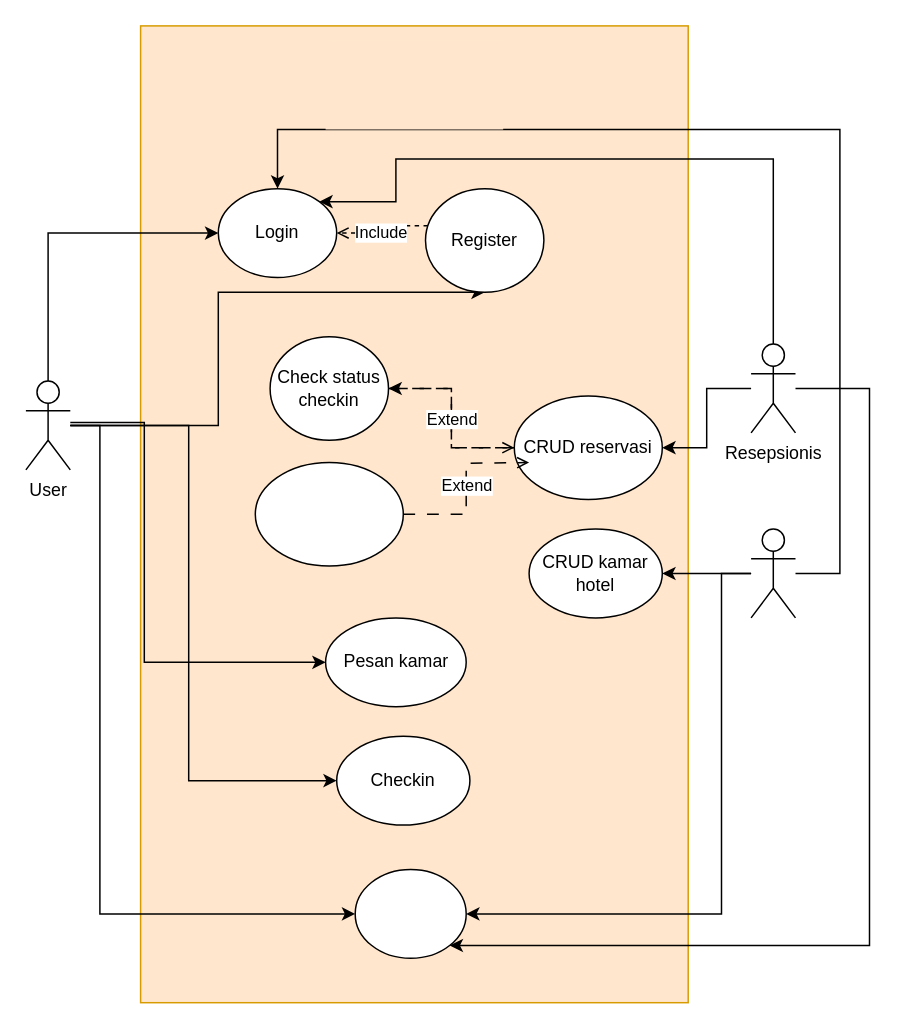
Some shapes in this 907 by 1029 pixel diagram are drawn without their labels. Here are the shapes that lost their labels. From the top down, the box of each, then its label:
(325, 40, 502, 129): System
(254, 461, 403, 566): Mengakses data reservasi
(750, 528, 796, 618): Admin
(354, 868, 466, 958): Logout
